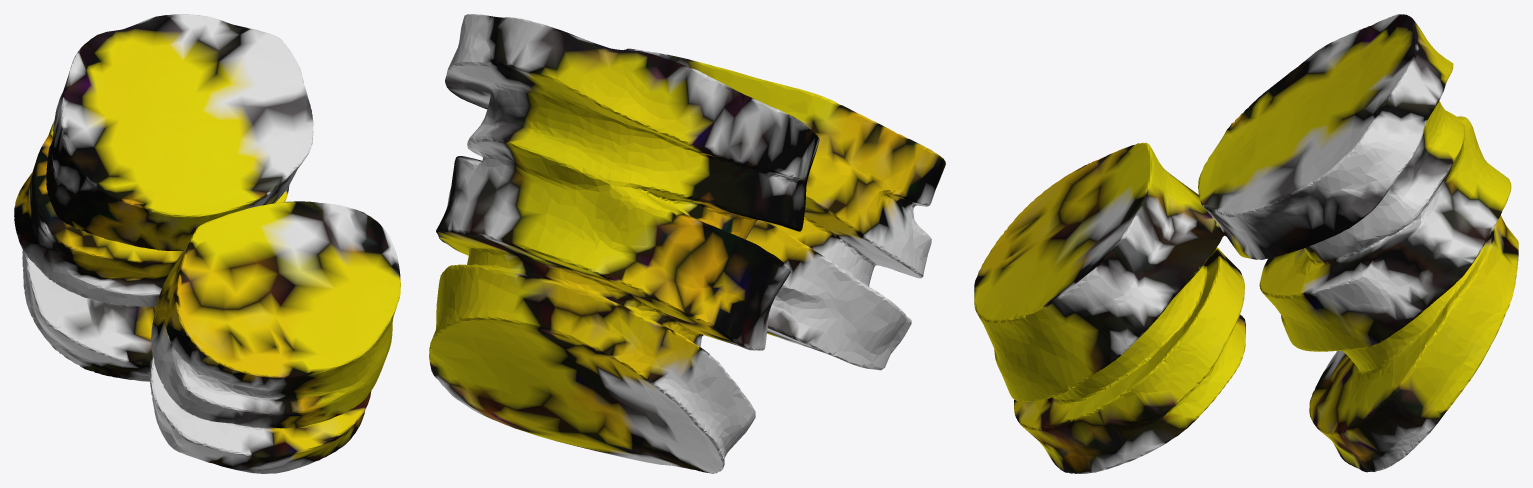
The model's file is goldcoin.glb.
The picture shows the model from 3 angles, left to right: view 1: azimuth 30°, elevation 25°; view 2: azimuth 150°, elevation 25°; view 3: azimuth 270°, elevation 25°; orthographic projection. The views are drawn at different scales.
Parts seen in each view (by area): view 1: geometry_0; view 2: geometry_0; view 3: geometry_0.
Part boxes in pixels (box(x1,y1,x2,y2)): geometry_0: box(14, 14, 400, 473); geometry_0: box(429, 14, 945, 473); geometry_0: box(974, 14, 1518, 473).
Size of the model in its own units: 0.6975 by 0.9062 by 1.11.
